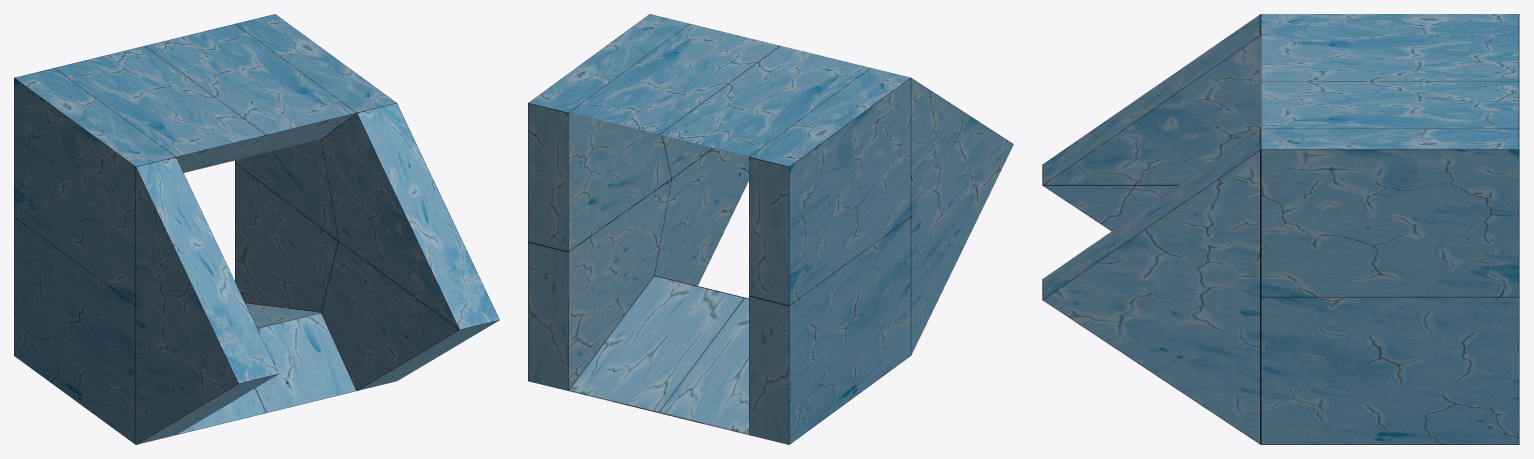
Rendered from EnemyCraftCockpitVer1.obj.
3 views of the same model, side by side, from view 1: azimuth 30°, elevation 25°; view 2: azimuth 150°, elevation 25°; view 3: azimuth 270°, elevation 25° (orthographic). The views are drawn at different scales.
Parts seen in each view (by area): view 1: Cube; view 2: Cube; view 3: Cube.
Boxes of the visible parts, <box> form: Cube: <box>14,14,499,444</box>; Cube: <box>528,14,1013,444</box>; Cube: <box>1042,14,1519,444</box>.
Size of the model in its own units: 1.97 by 2 by 2.93.
